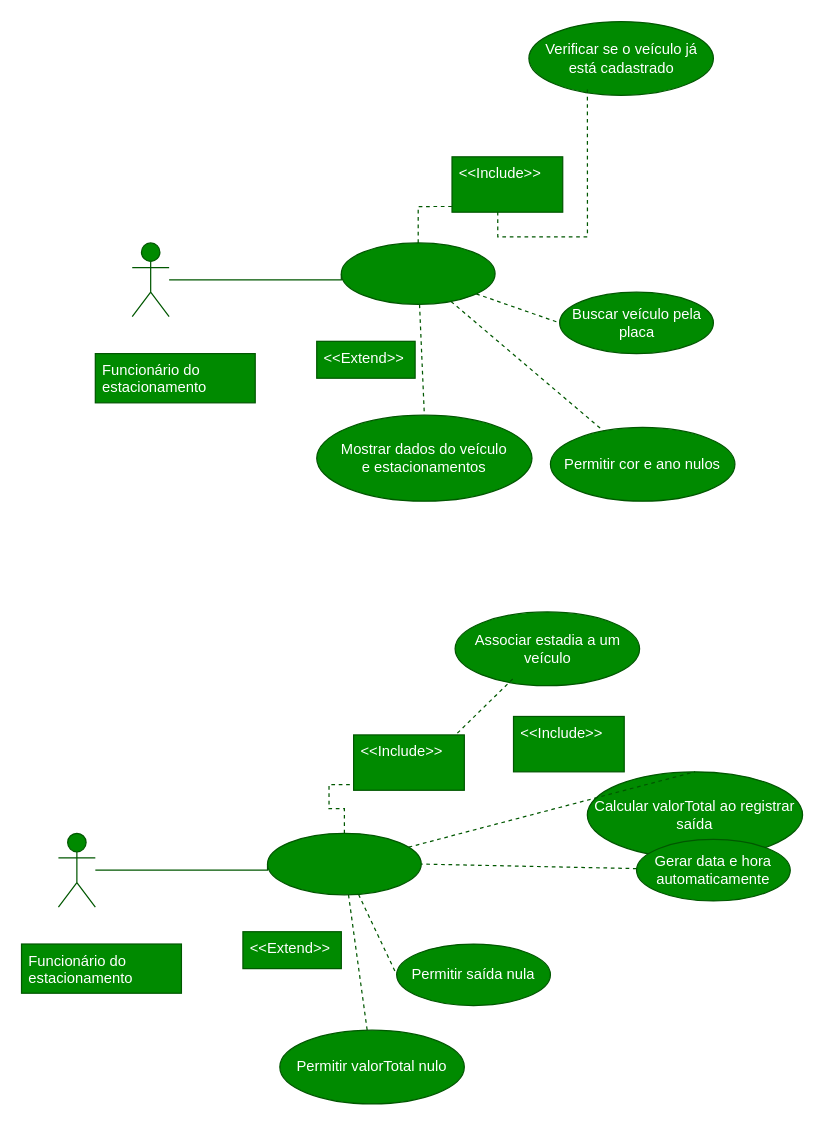
Image size: 824x1125. Some labels were removed from this diagram. The shapes that lost their labels are listed below. From the top down, each one's box as (x1, y1, x2, y2) in pixels, then its label:
(340, 242, 495, 304): [RF001] Fazer CRUD de Veículos
(266, 832, 421, 895): [RF002] Fazer CRUD de Estadias
